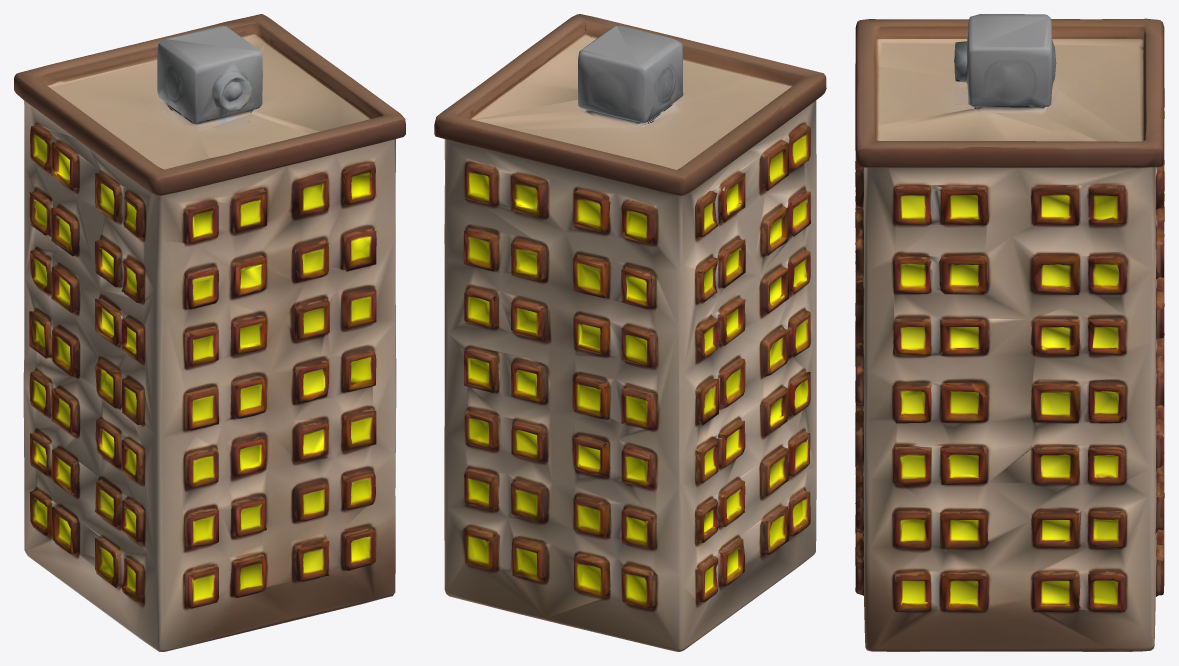
The model's file is env_building_1.glb.
The picture shows the model from 3 angles, left to right: view 1: azimuth 30°, elevation 25°; view 2: azimuth 150°, elevation 25°; view 3: azimuth 270°, elevation 25°; orthographic projection. The views are drawn at different scales.
Visible parts, largest first — view 1: model; view 2: model; view 3: model.
Part boxes in pixels (x1=…): model: x1=14, y1=14, x2=405, y2=651; model: x1=434, y1=14, x2=826, y2=651; model: x1=855, y1=14, x2=1164, y2=651.
Bounding box in the file's own units: 0.9497 × 1.9 × 0.9496.
1 material, 1 textured.
